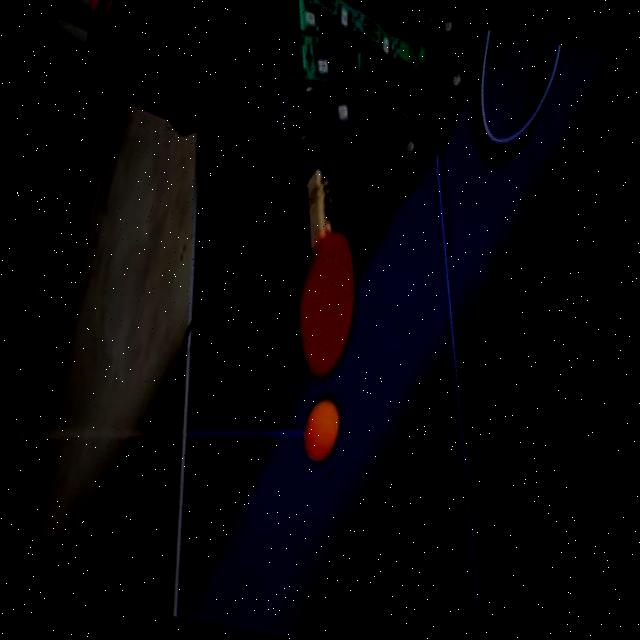ping-pong-ball: (296, 396, 342, 464)
